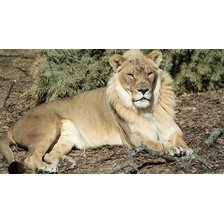lion: (1, 50, 192, 174)
